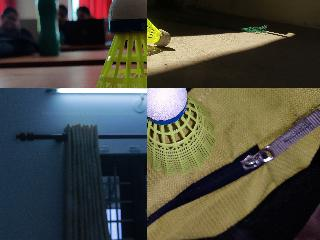shuttlecock: (147, 88, 217, 177), (78, 0, 146, 87), (147, 5, 171, 47)
